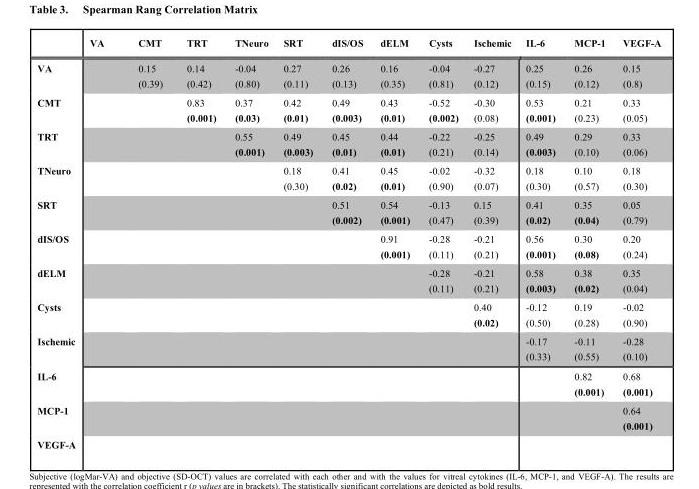table: (36, 36, 660, 449)
table column: (120, 36, 174, 449), (465, 36, 517, 449), (224, 36, 275, 449), (174, 36, 224, 449), (321, 36, 371, 449), (564, 36, 613, 449), (371, 36, 418, 449), (418, 36, 465, 449), (517, 36, 564, 449), (613, 36, 660, 449), (36, 36, 82, 449), (275, 36, 321, 449), (82, 36, 120, 449)
table column header: (36, 36, 660, 55)
table row: (36, 55, 660, 92), (36, 160, 660, 195), (36, 228, 660, 263), (36, 365, 660, 400), (36, 92, 660, 126), (36, 126, 660, 160), (36, 263, 660, 297), (36, 297, 660, 331), (36, 331, 660, 365), (36, 400, 660, 434), (36, 195, 660, 228), (36, 36, 660, 55), (36, 434, 660, 449)
